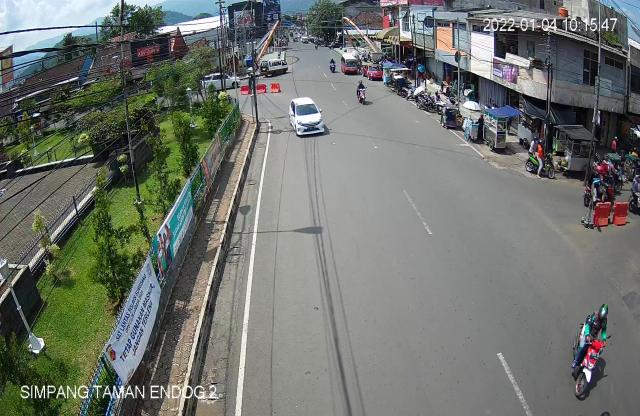Mobil: (287, 97, 329, 142)
Motor: (568, 302, 616, 403), (524, 136, 556, 185), (356, 79, 369, 109)
